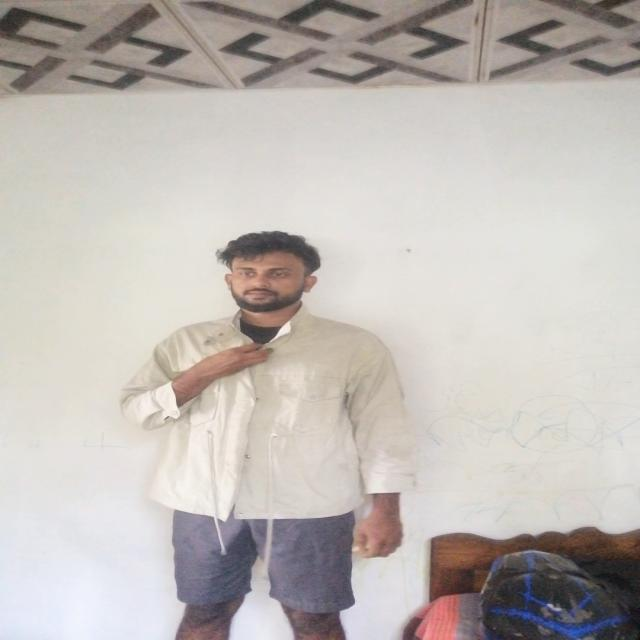Jacket_Wearer: (122, 310, 428, 527)
Person: (130, 217, 426, 640)
